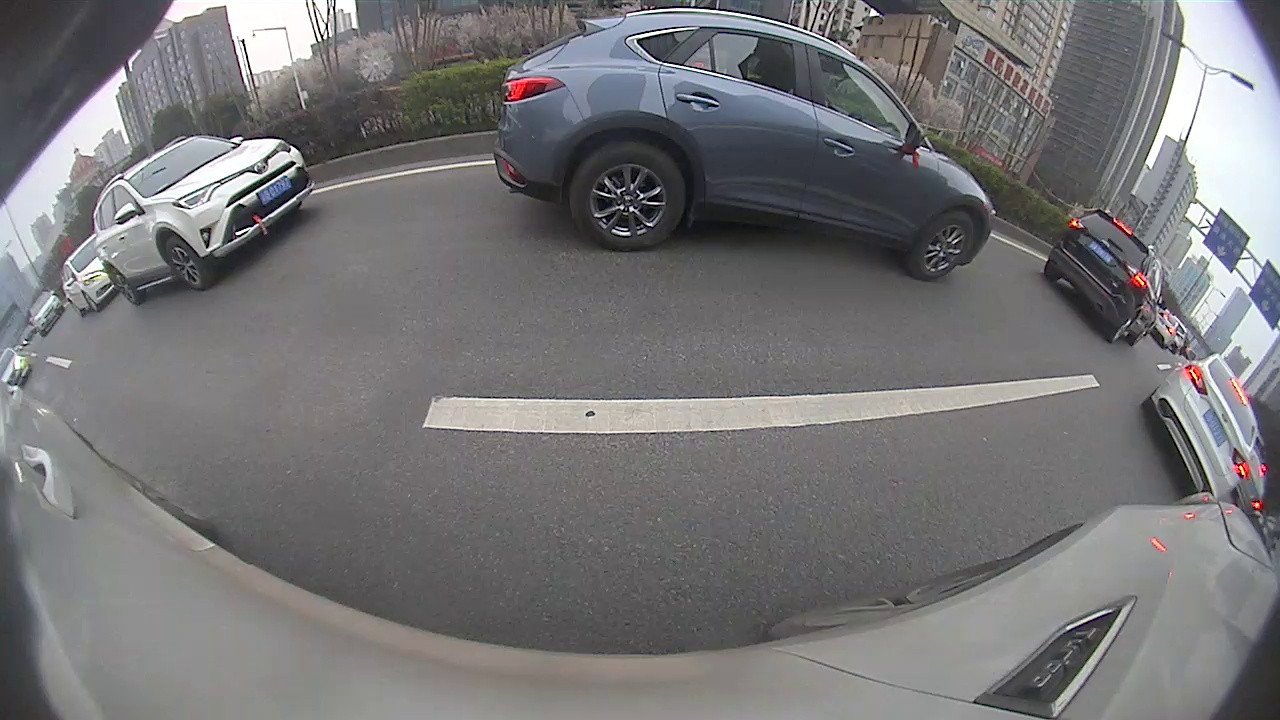car: (492, 6, 998, 284), (92, 130, 317, 308), (1140, 348, 1263, 501), (1041, 208, 1171, 347), (60, 234, 118, 317), (27, 292, 67, 337), (1, 344, 33, 392)
front: (908, 212, 974, 277), (164, 238, 207, 293)
rear: (571, 144, 680, 250), (108, 268, 139, 305)
